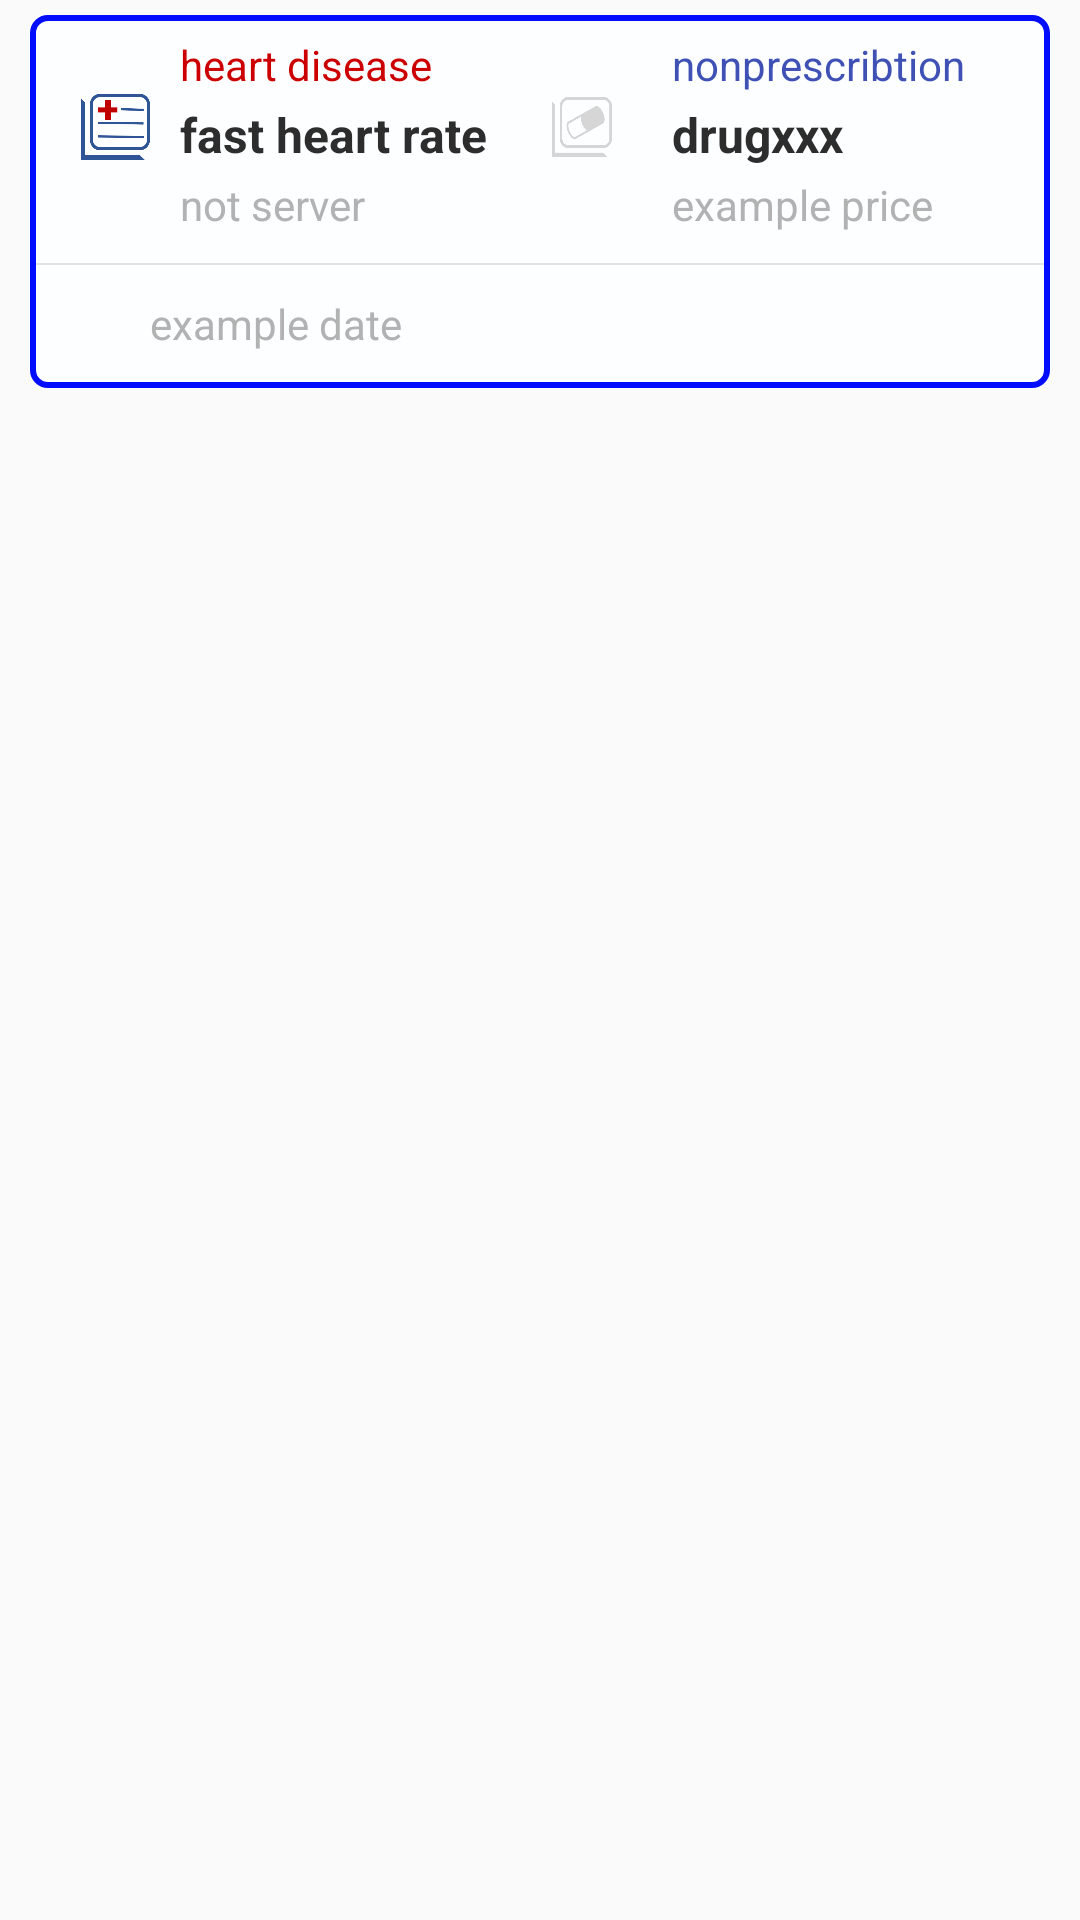

Icon click points for this 1080 × 1920 phone screenshot, format (x=x, y=y):
medicalrecord inside: (x=115, y=127)
pharmacy: (x=582, y=127)
